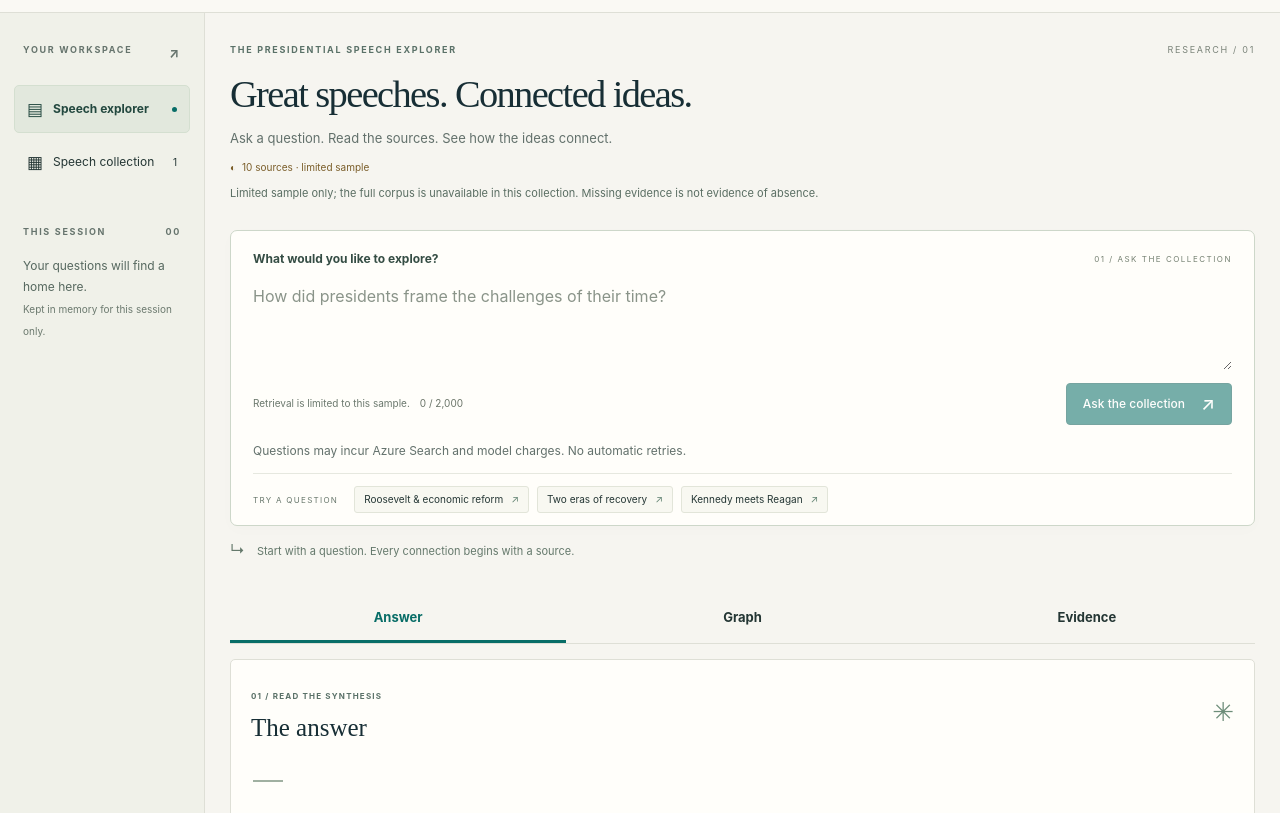
Test: research workspace › prevents double submission and labels the in-flight question
Later steps or results of the test are not shown.
Type "How are the test topics connected?" into the text box labelled "What would you like to explore?" at (742, 319), box [253,269,1232,370]
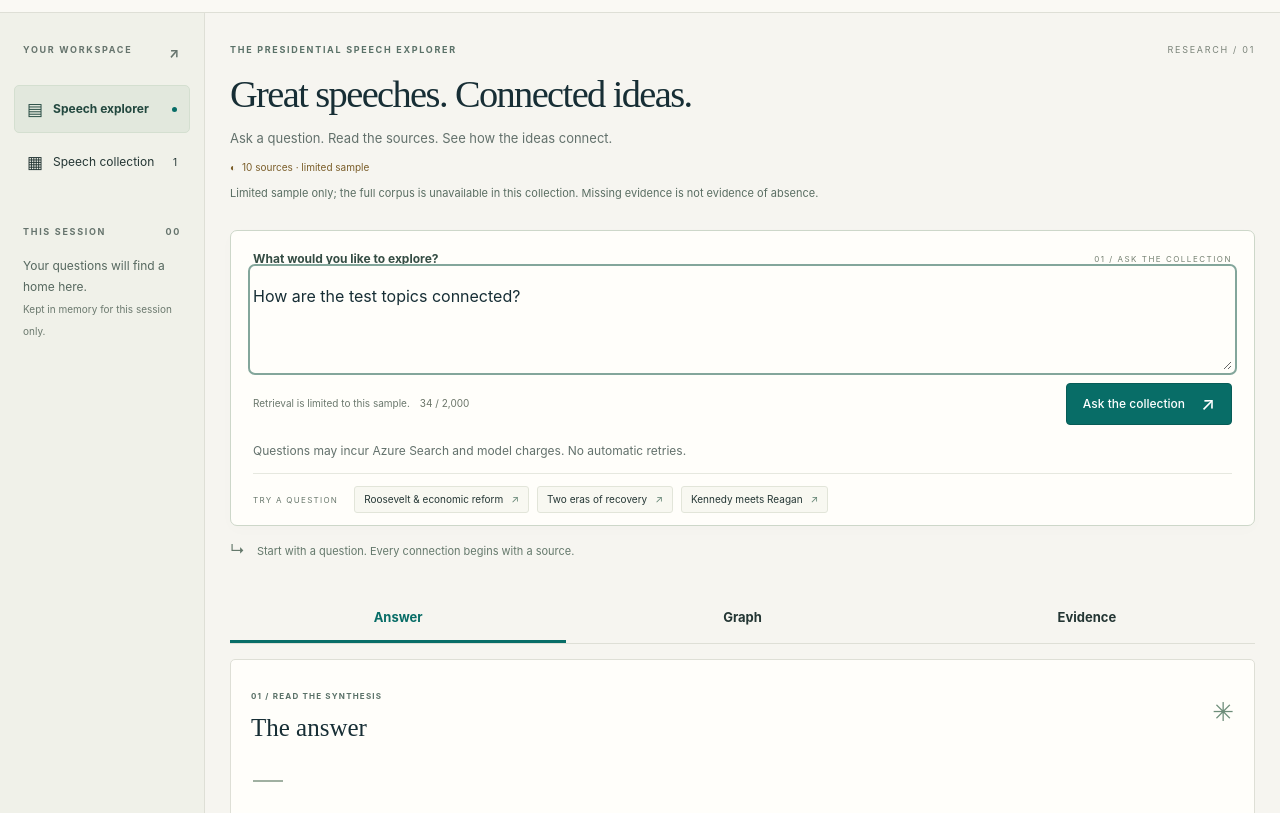
Click the button "Ask the collection ↗" at (1149, 404), box [1066,383,1232,425]
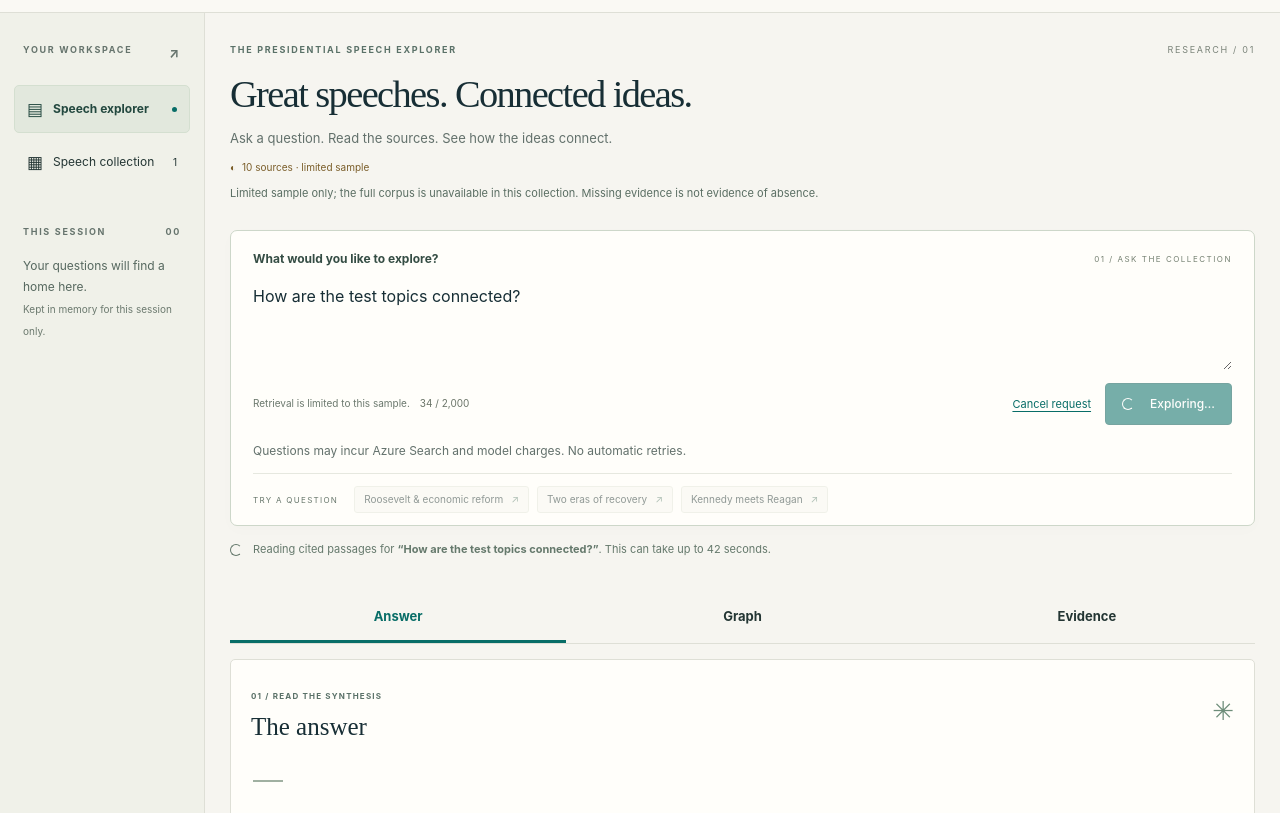
Expected: the text box is disabled, [253,269,1232,370]
Expected: the button "Exploring…" is disabled, [1105,383,1232,425]
Submit the form, box [253,269,1232,425]
Submit the form, box [253,269,1232,425]
(page scrolled)
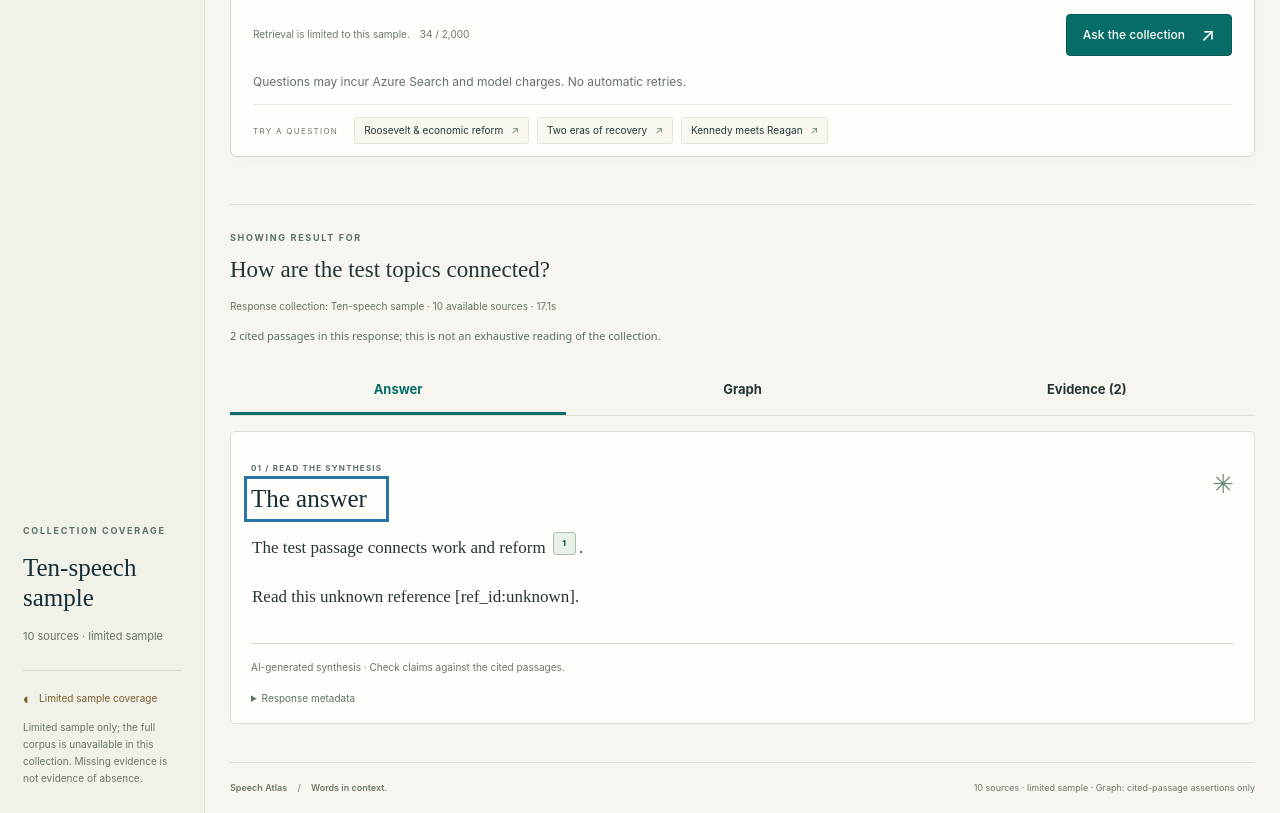
Expected: the text "The test passage connects work and reform 1 ." is shown, [252,532,583,557]
